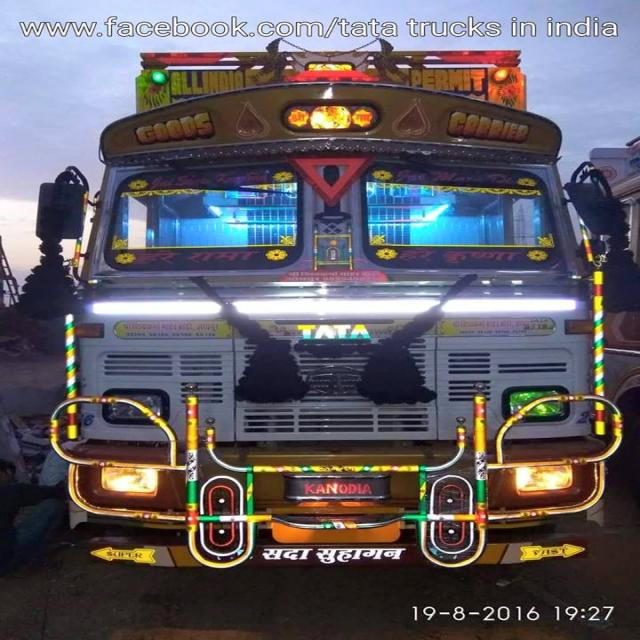truck: (54, 29, 616, 588)
